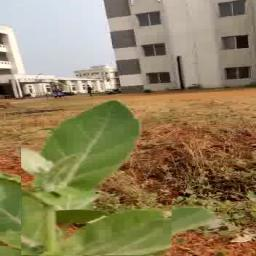Calotropis: (21, 119, 172, 256)
